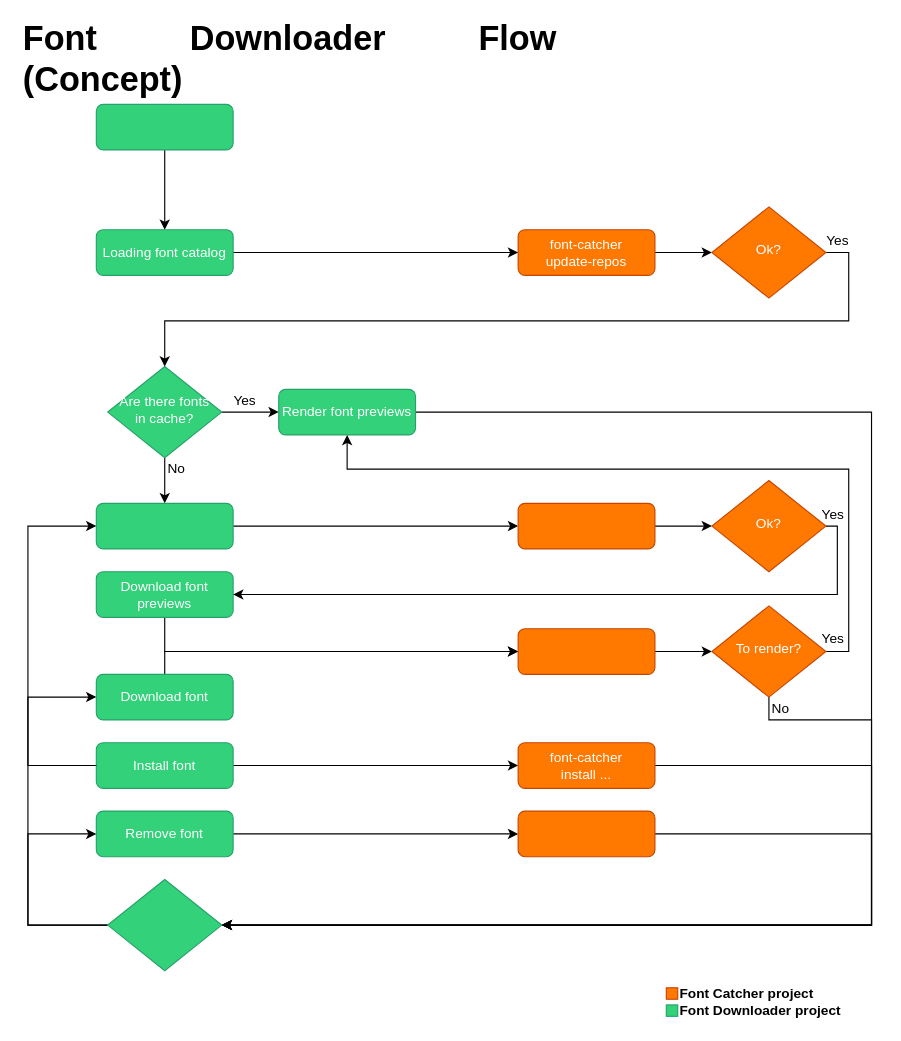
The diagram is 901 pixels wide and 1041 high, and some of its shapes have lost their labels. Here are the shapes that lost their labels. From the top down, the centre of each, then its label:
At (164,126): "App is opened".
At (164,525): "Search fonts".
At (586,525): "font-catcher search ...".
At (586,651): "font-catcher download ...".
At (586,833): "font-catcher remove ...".
At (164,924): "Wait for user input".
